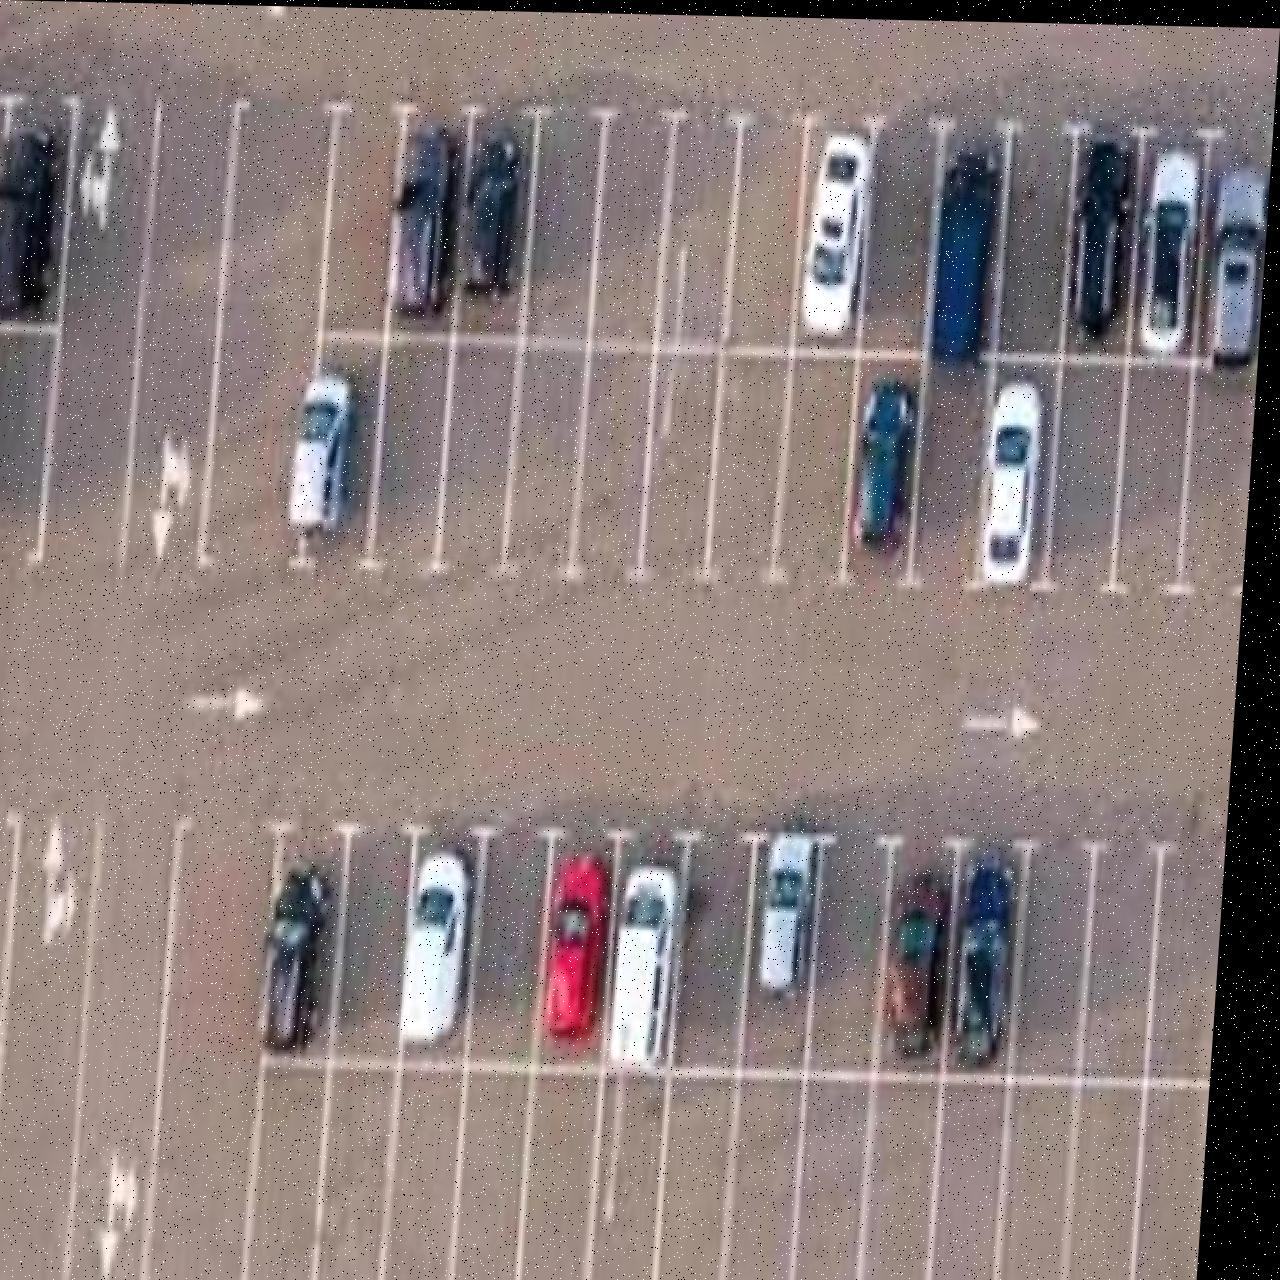car: (883, 857, 971, 1062), (960, 843, 1036, 1073), (803, 126, 882, 334), (934, 145, 1007, 356), (0, 113, 73, 324), (414, 844, 490, 1043), (623, 862, 697, 1065), (392, 117, 466, 316), (1139, 140, 1208, 351), (275, 860, 351, 1051), (985, 372, 1053, 581), (1071, 133, 1140, 336), (1210, 149, 1273, 362), (558, 849, 624, 1036), (862, 372, 925, 548), (467, 128, 530, 299), (297, 368, 363, 531), (771, 828, 831, 993)
